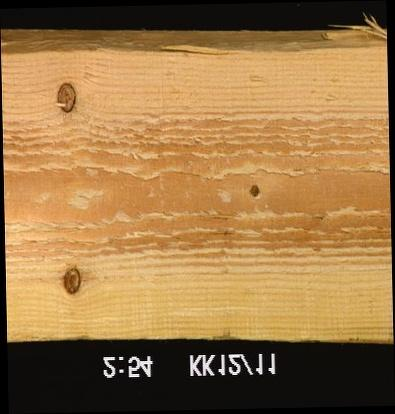dry_knot: (53, 80, 77, 115), (59, 265, 83, 296), (245, 181, 261, 200)
wave: (0, 25, 386, 59)
